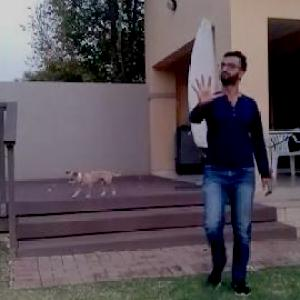follow_hand: (186, 70, 222, 109)
